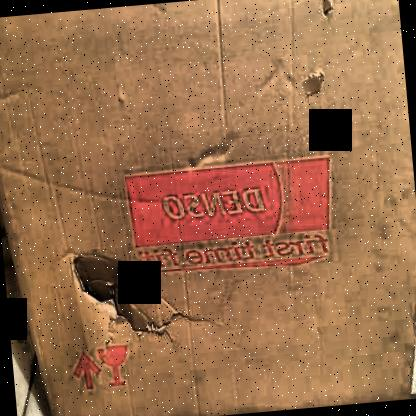defect parcel: (41, 198, 229, 394)
